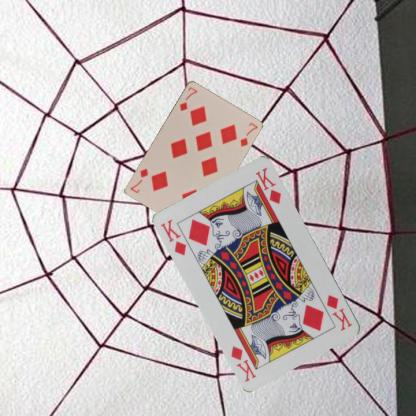7d: (177, 84, 199, 112)
Kd: (324, 292, 354, 332), (158, 217, 188, 257)
